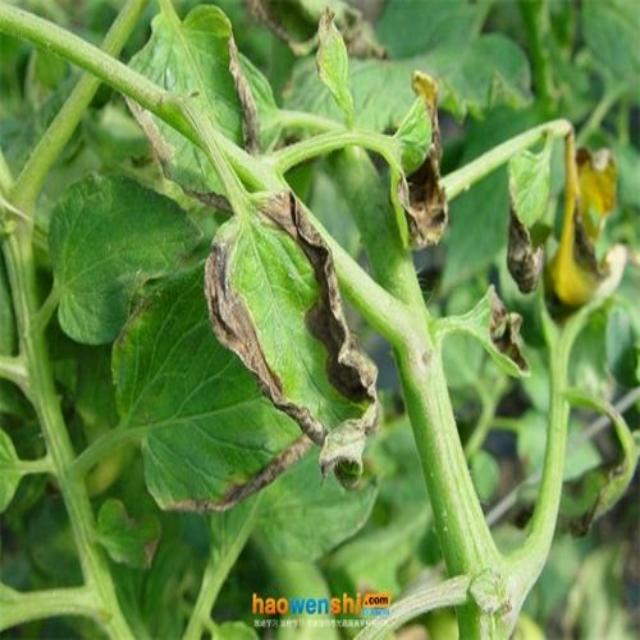Early_blight: (203, 191, 381, 491), (155, 432, 315, 515), (543, 136, 618, 310), (383, 73, 452, 250), (245, 1, 389, 57), (221, 30, 262, 158), (484, 287, 534, 381), (503, 182, 542, 296), (128, 100, 173, 181)
